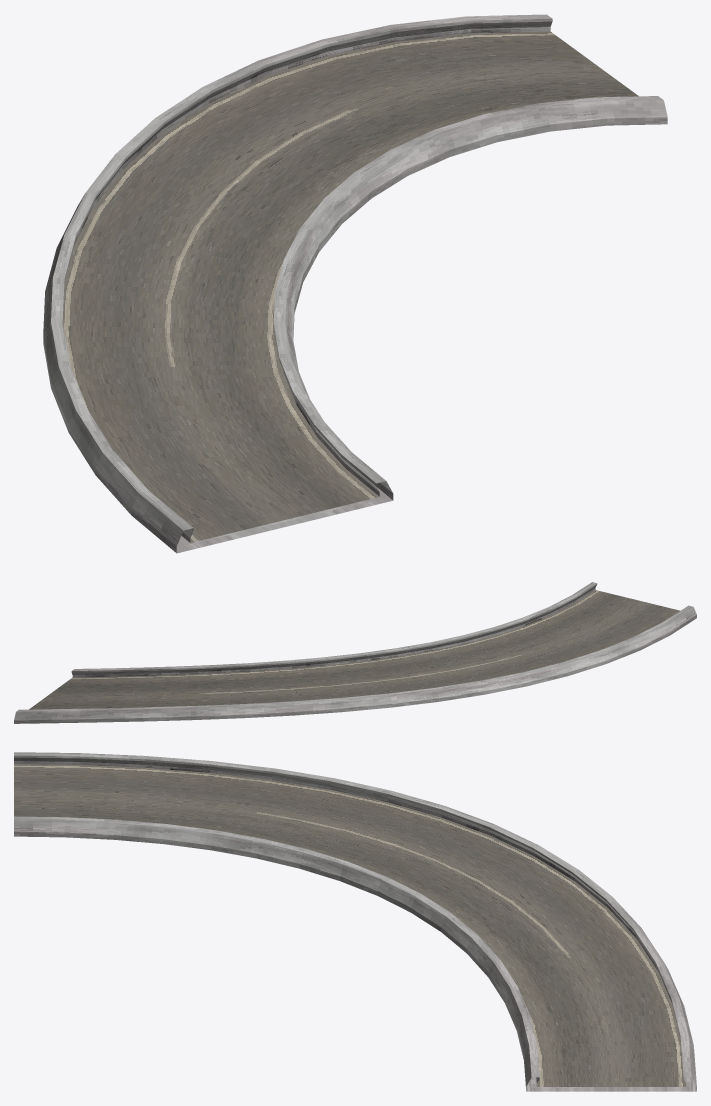
The model's file is turn-right4x4.glb.
The picture shows the model from 3 angles, top to bottom: view 1: azimuth 30°, elevation 25°; view 2: azimuth 150°, elevation 25°; view 3: azimuth 270°, elevation 25°; orthographic projection. The views are drawn at different scales.
Visible parts, largest first — view 1: road-Turn-Flat-BiSlopeDown-Down1-Right-Size4; view 2: road-Turn-Flat-BiSlopeDown-Down1-Right-Size4; view 3: road-Turn-Flat-BiSlopeDown-Down1-Right-Size4.
Boxes of the visible parts, x1=… form: road-Turn-Flat-BiSlopeDown-Down1-Right-Size4: x1=43, y1=14, x2=667, y2=553; road-Turn-Flat-BiSlopeDown-Down1-Right-Size4: x1=14, y1=582, x2=696, y2=723; road-Turn-Flat-BiSlopeDown-Down1-Right-Size4: x1=14, y1=752, x2=696, y2=1091.
Size of the model in its own units: 4 by 0.4242 by 4.
Materials: 2 (2 with a texture image).
